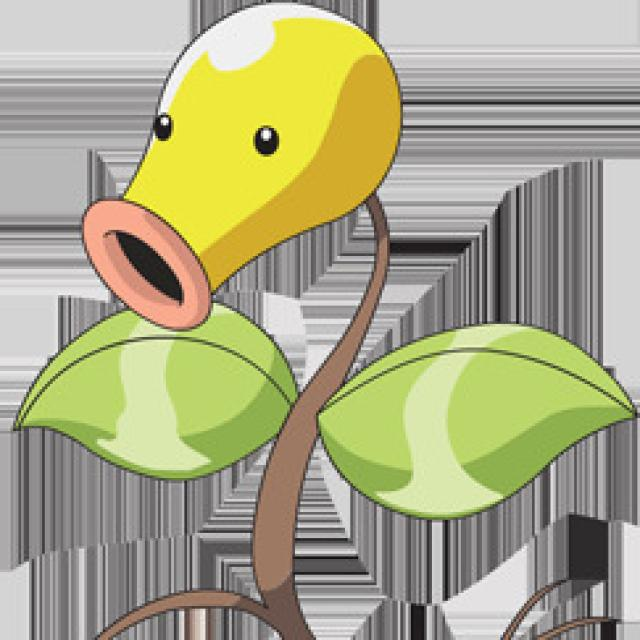Bellsprout: (78, 0, 455, 618)
